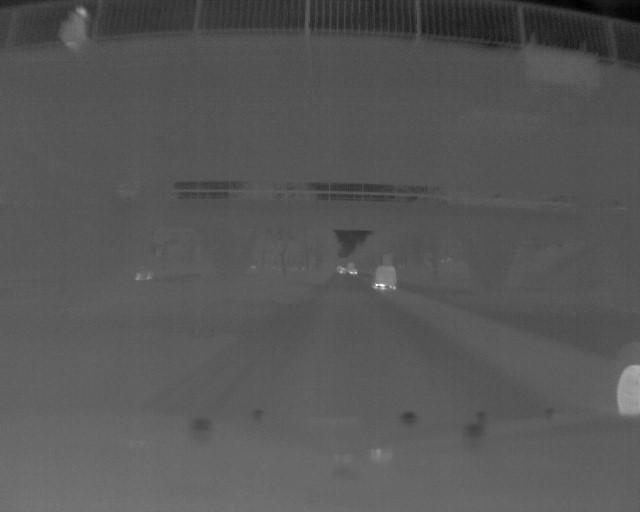car: (369, 264, 400, 293)
